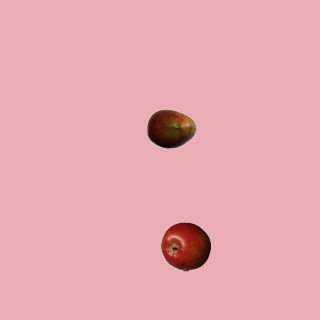Apple Braeburn: (160, 221, 210, 271)
Mango Red: (146, 103, 196, 153)
